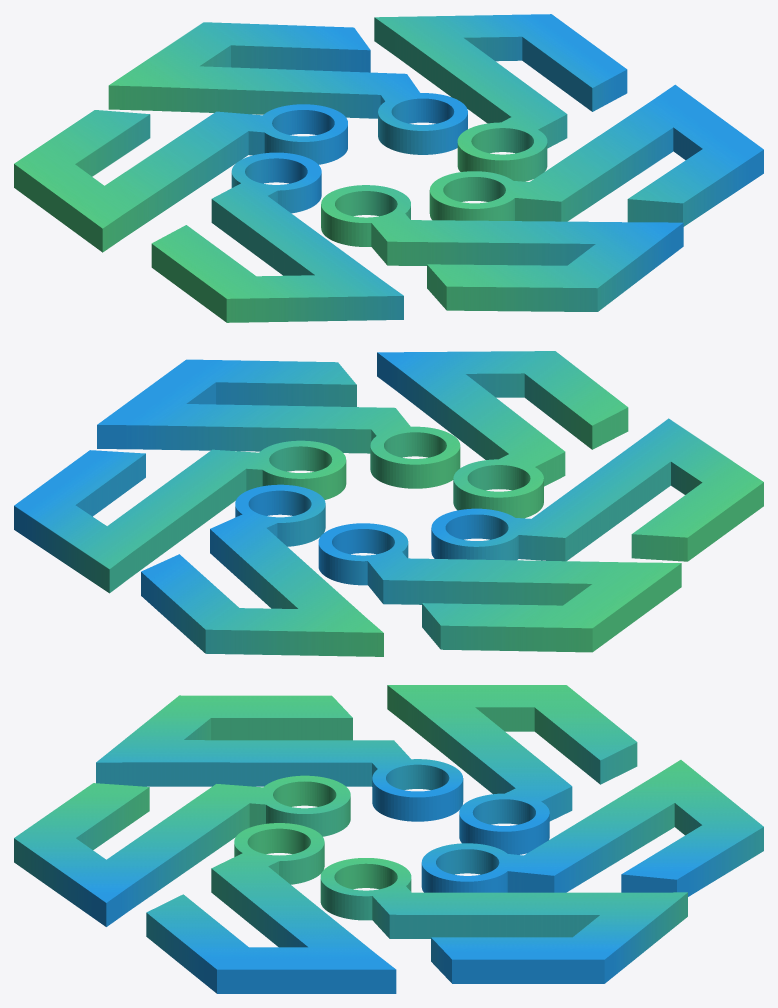
The model's file is Project-Name.gltf.
The picture shows the model from 3 angles, top to bottom: view 1: azimuth 30°, elevation 25°; view 2: azimuth 150°, elevation 25°; view 3: azimuth 270°, elevation 25°; orthographic projection.
Parts seen in each view (by area): view 1: Merged Objects; view 2: Merged Objects; view 3: Merged Objects.
Boxes of the visible parts, x1,y1,x2,y2 form: Merged Objects: [14, 14, 763, 322]; Merged Objects: [14, 351, 763, 656]; Merged Objects: [14, 685, 763, 993].
Size of the model in its own units: 0.4431 by 0.0176 by 0.4935.
1 material, 1 textured.
